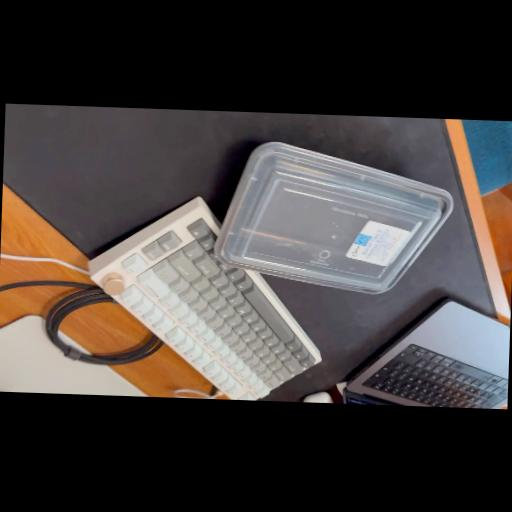rigid_plastic_container: (206, 128, 461, 307)
